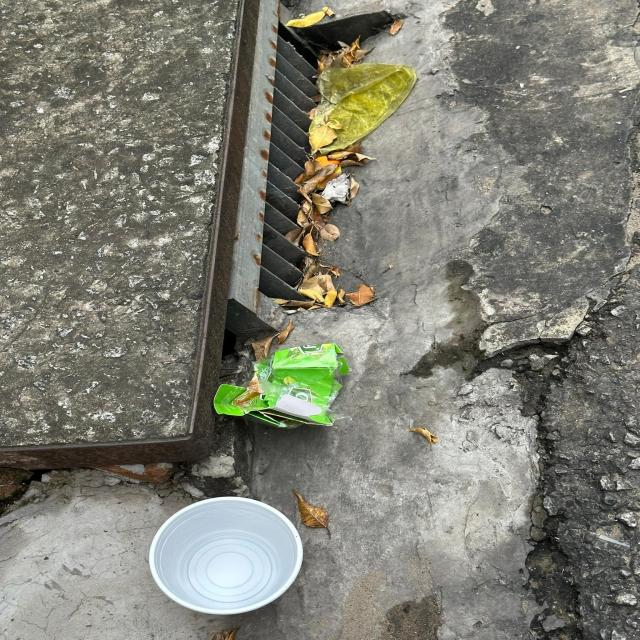cardboard box: (213, 342, 349, 428)
plastic holder: (148, 497, 302, 616)
